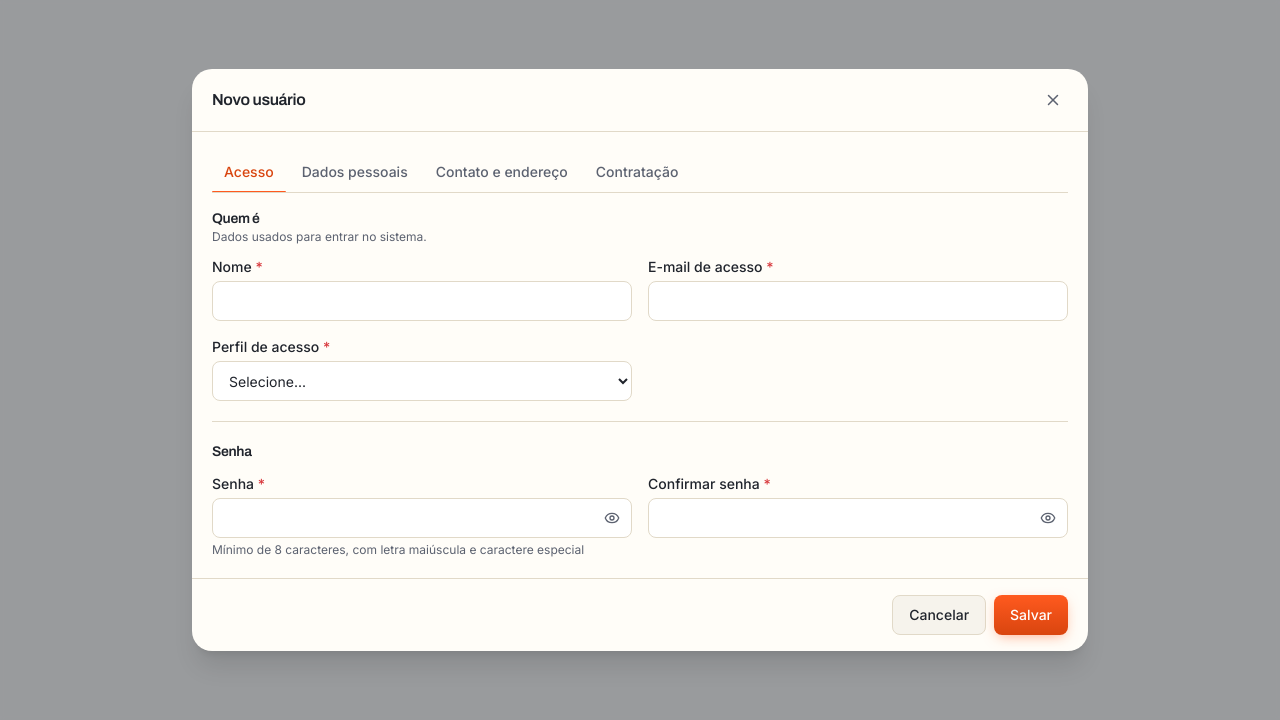
Scenario: UsuarioFormModal › cadastro completo de colaborador (CLT) › recusa jornada acima do limite da CLT
This screenshot has width=1280, height=720.
Step 1. Type "Fernanda" into the field labelled "Nome *" → [422, 301], box [212,281,632,321]
Step 2. Type "fernanda@ramtec.com.br" into the field labelled "E-mail de acesso *" → [858, 301], box [648,281,1068,321]
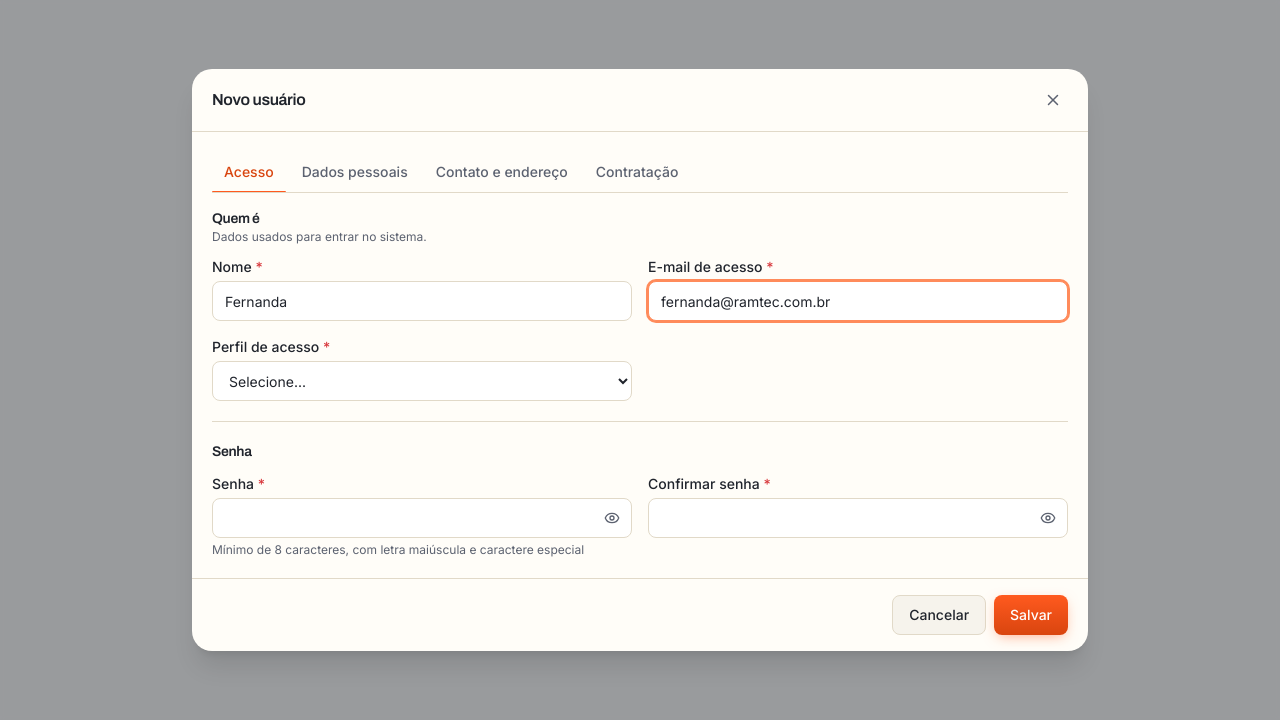
Step 3. Select "Administrador" in the dropdown labelled "Perfil de acesso *" → [422, 381], box [212,361,632,401]
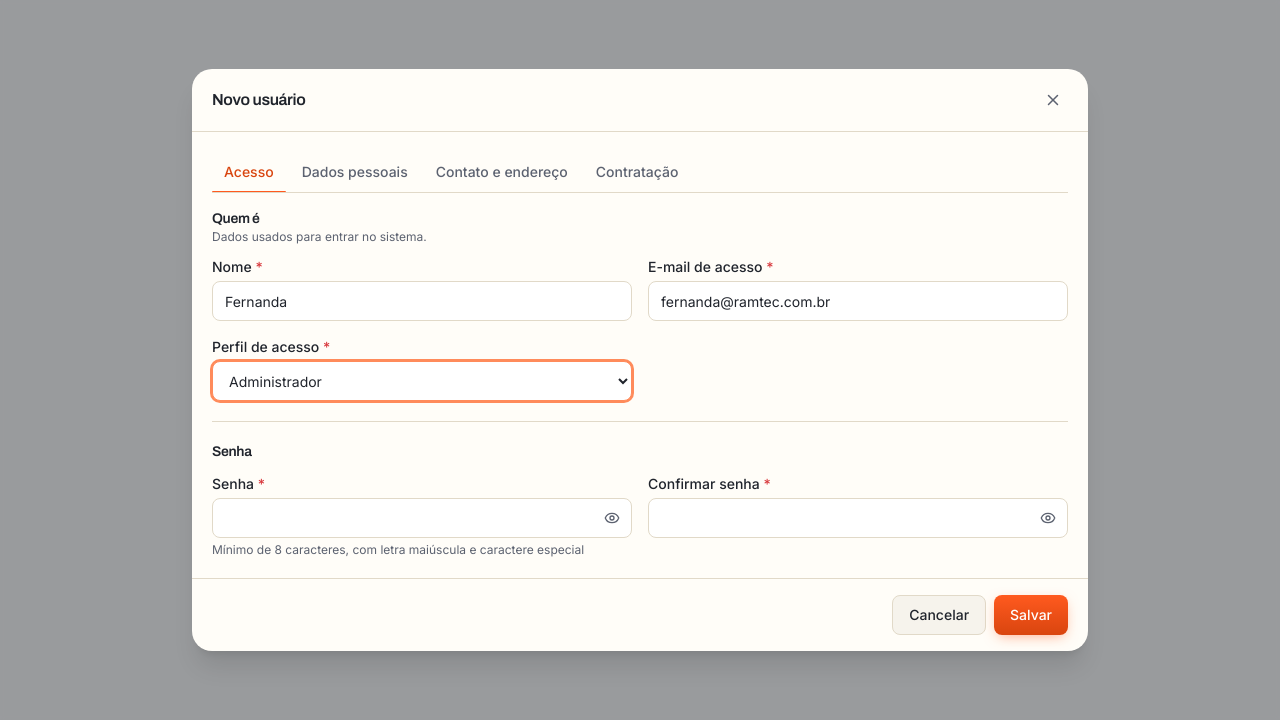
Step 4. Type "Senha@123" into the password field labelled "Senha *" → [422, 518], box [212,498,632,538]
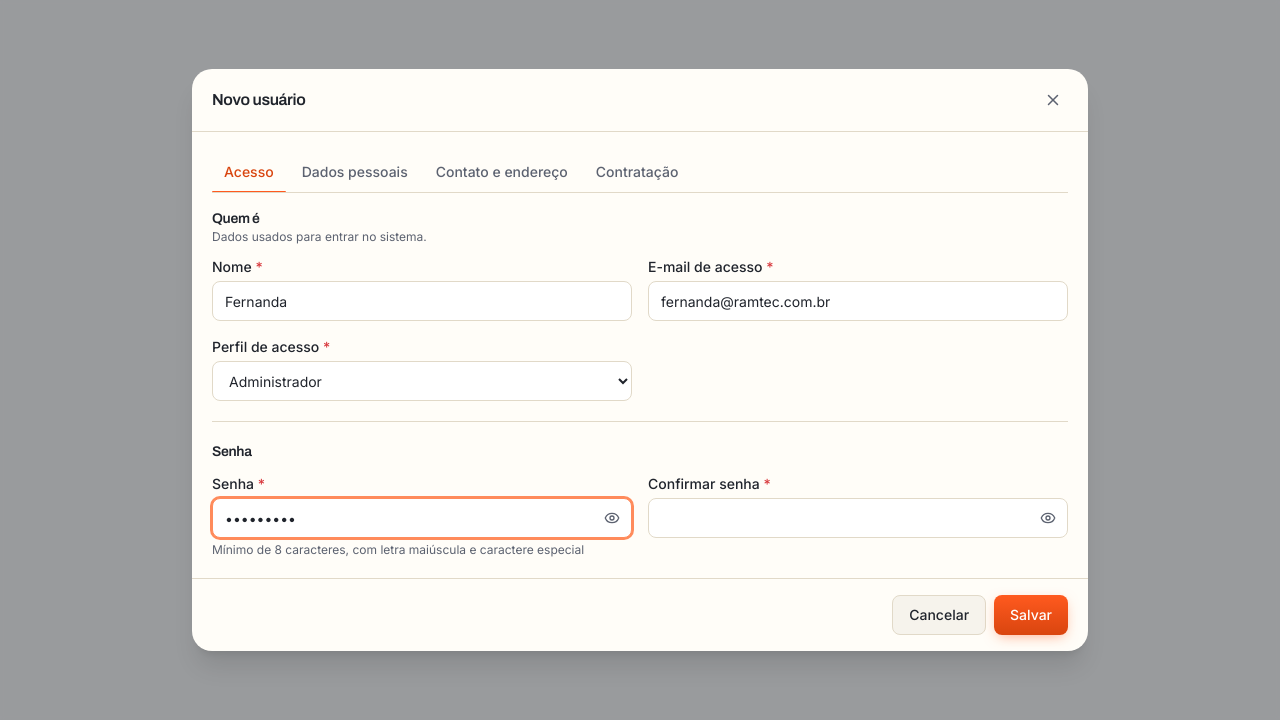
Step 5. Type "Senha@123" into the password field labelled "Confirmar senha *" → [858, 518], box [648,498,1068,538]
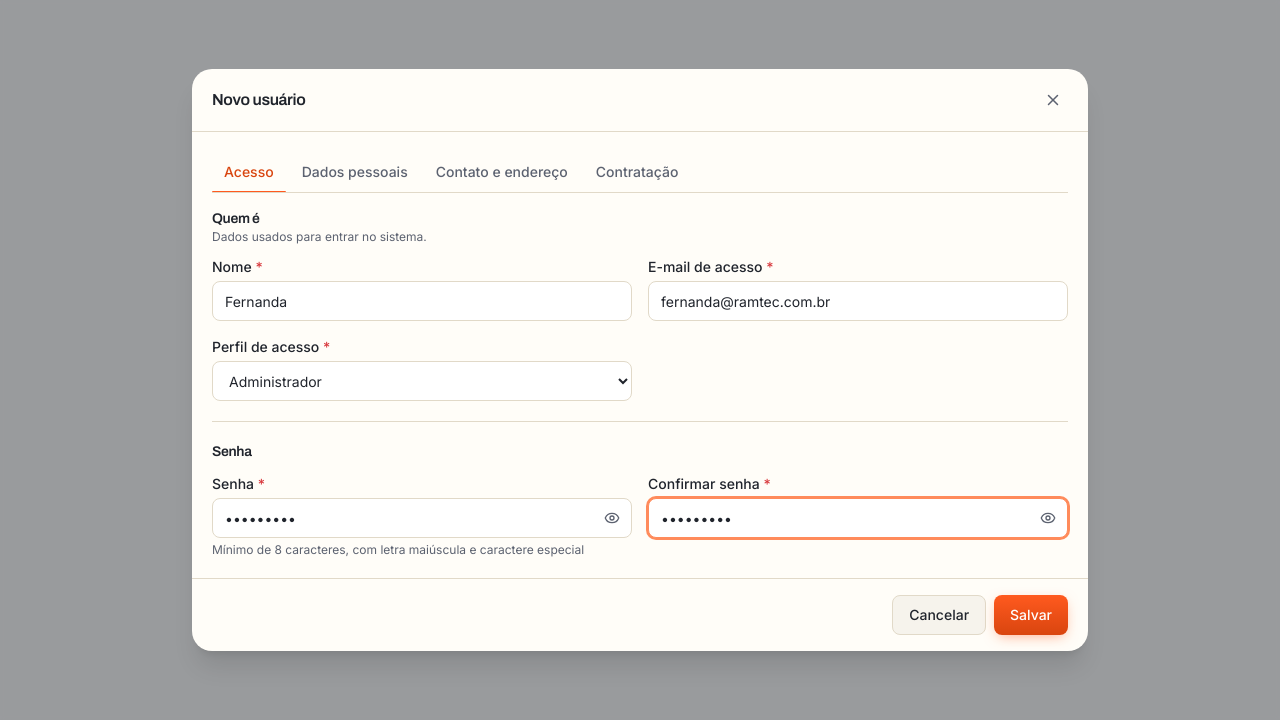
Step 6. Click the button "Contratação" → [637, 172], box [584,152,690,192]
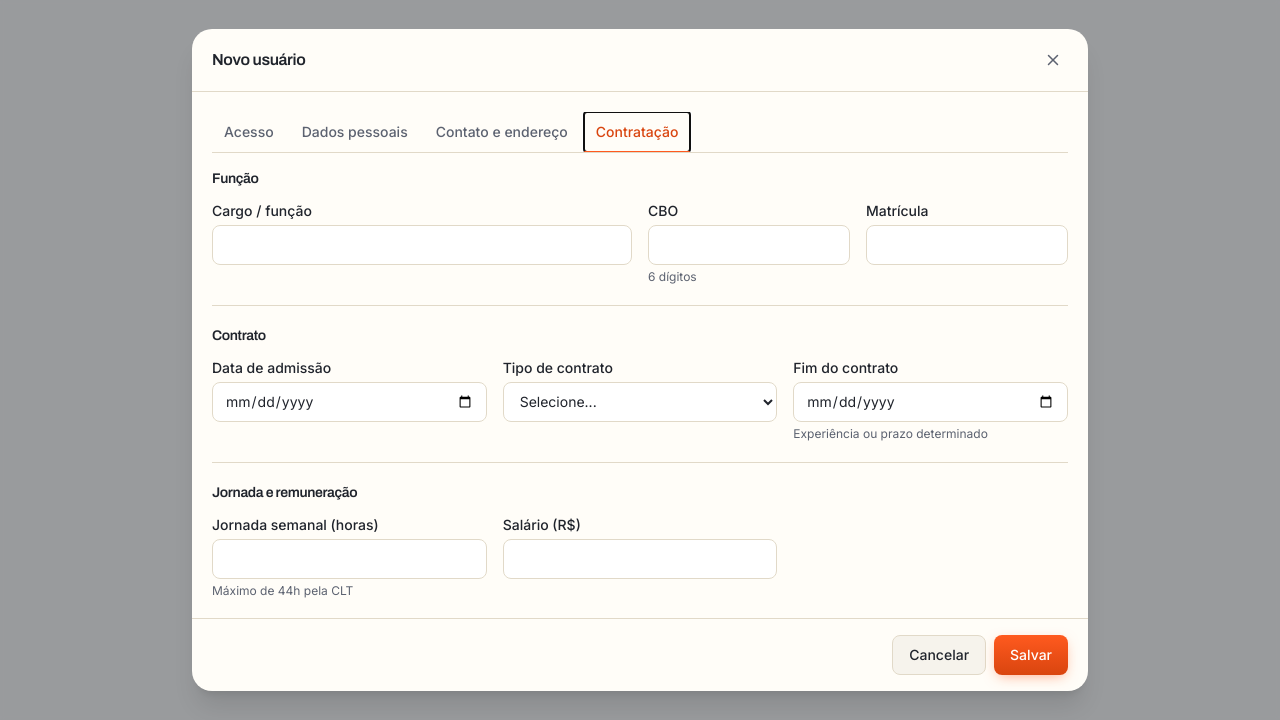
Step 7. Type "50" into the number field labelled "Jornada semanal (horas)" → [349, 559], box [212,539,487,579]
Step 8. Click the button "Salvar" → [1031, 655], box [994,635,1068,675]
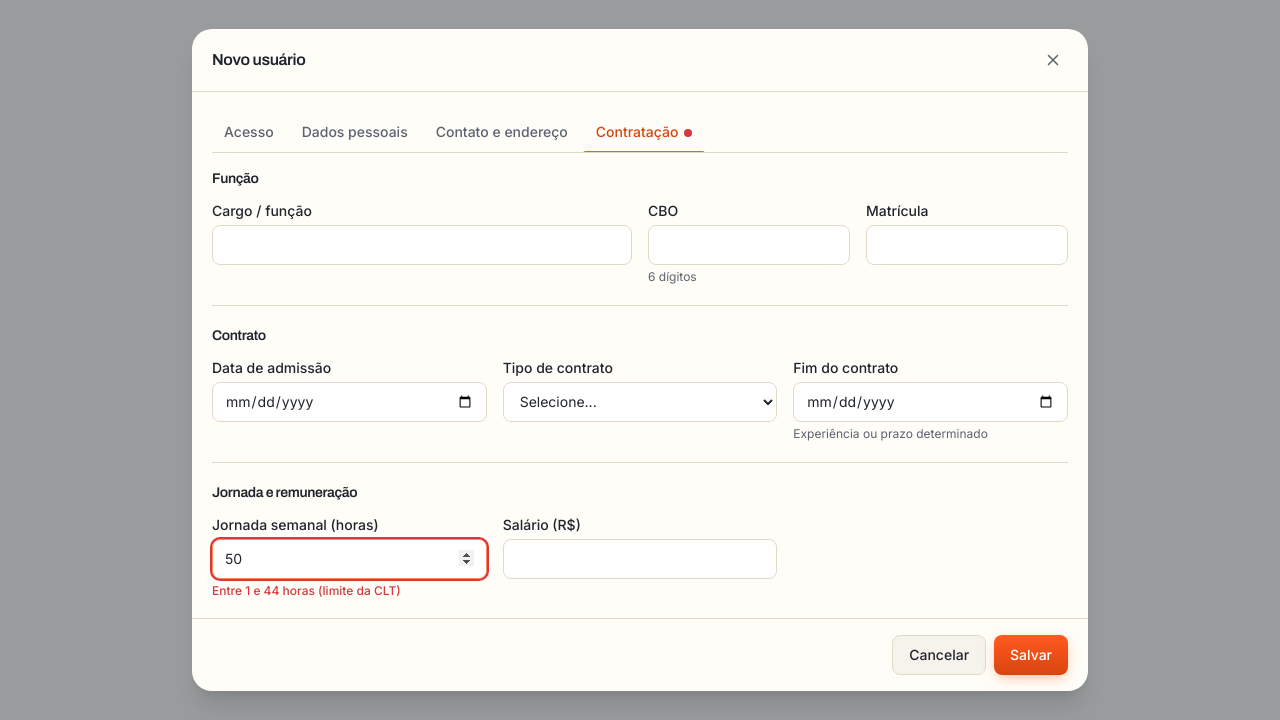
Expected: the text "Entre 1 e 44 horas (limite da CLT)" is shown, [212,583,401,598]
